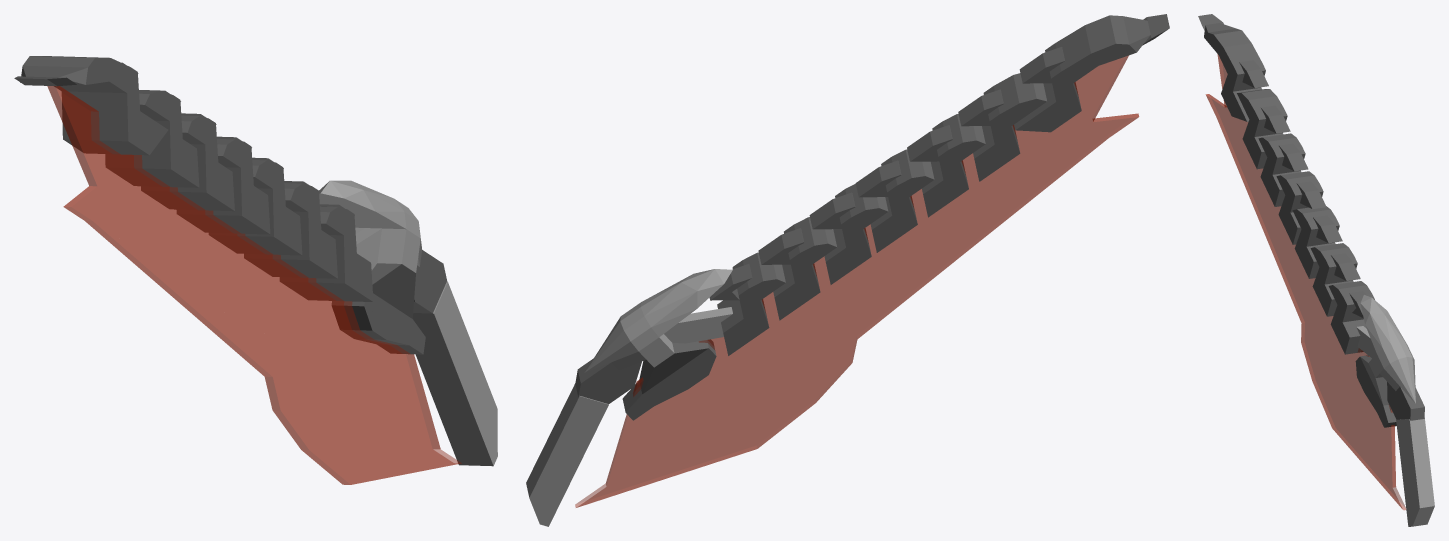
File: PromethianSword.obj
The picture shows the model from 3 angles, left to right: view 1: azimuth 30°, elevation 25°; view 2: azimuth 150°, elevation 25°; view 3: azimuth 270°, elevation 25°; orthographic projection. The views are drawn at different scales.
Parts seen in each view (by area): view 1: the_node.104_tri_3360_geometry, the_node.109_tri_3576_geometry; view 2: the_node.104_tri_3360_geometry, the_node.109_tri_3576_geometry; view 3: the_node.104_tri_3360_geometry, the_node.109_tri_3576_geometry.
Part boxes in pixels (x1=…): the_node.104_tri_3360_geometry: x1=14, y1=56, x2=497, y2=466; the_node.109_tri_3576_geometry: x1=47, y1=86, x2=461, y2=484; the_node.104_tri_3360_geometry: x1=526, y1=14, x2=1169, y2=526; the_node.109_tri_3576_geometry: x1=575, y1=55, x2=1138, y2=507; the_node.104_tri_3360_geometry: x1=1198, y1=14, x2=1434, y2=526; the_node.109_tri_3576_geometry: x1=1206, y1=54, x2=1405, y2=509.
Size of the model in its own units: 1.07 by 1.04 by 0.6344.
